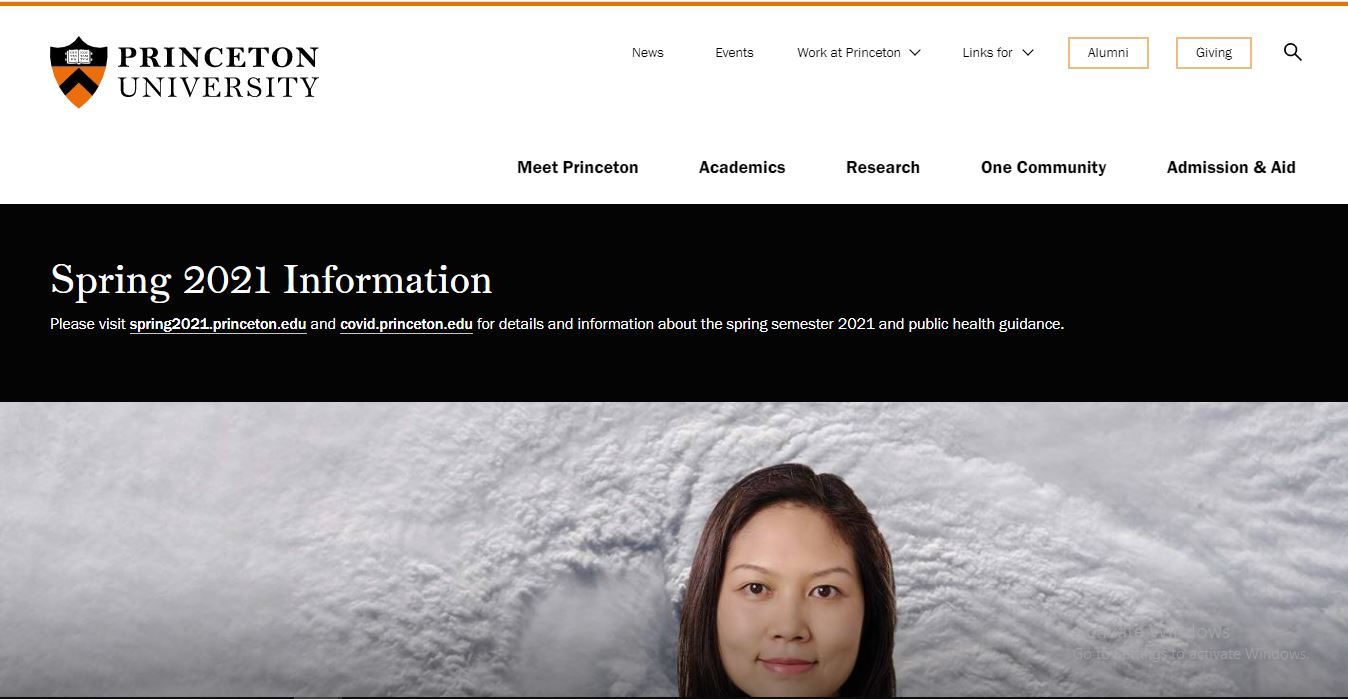Button: (1165, 31, 1265, 74), (1063, 30, 1153, 74)
Image: (2, 403, 1348, 699), (42, 17, 346, 137)
Menu Bar: (491, 141, 1312, 198), (596, 19, 1054, 79)
